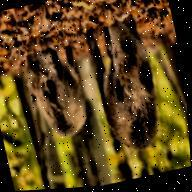boar: (80, 14, 170, 160), (18, 42, 93, 145)
